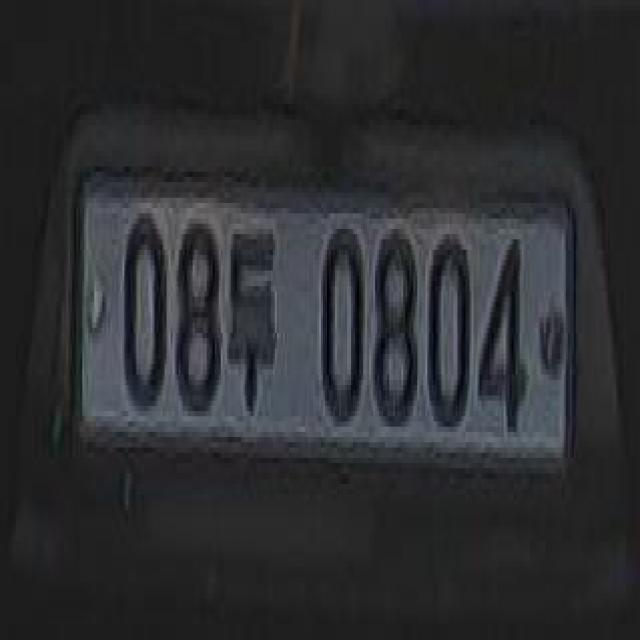illegal_plate: (78, 159, 576, 494)
